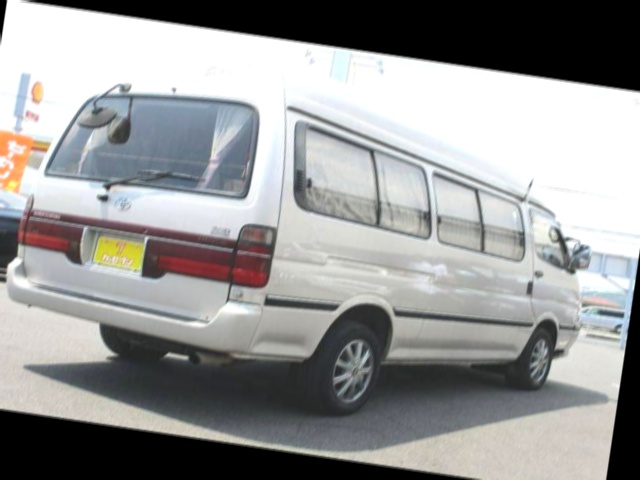van: (0, 21, 624, 436)
